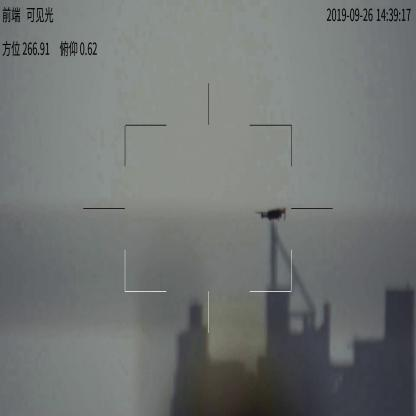uav: (252, 207, 289, 225)
